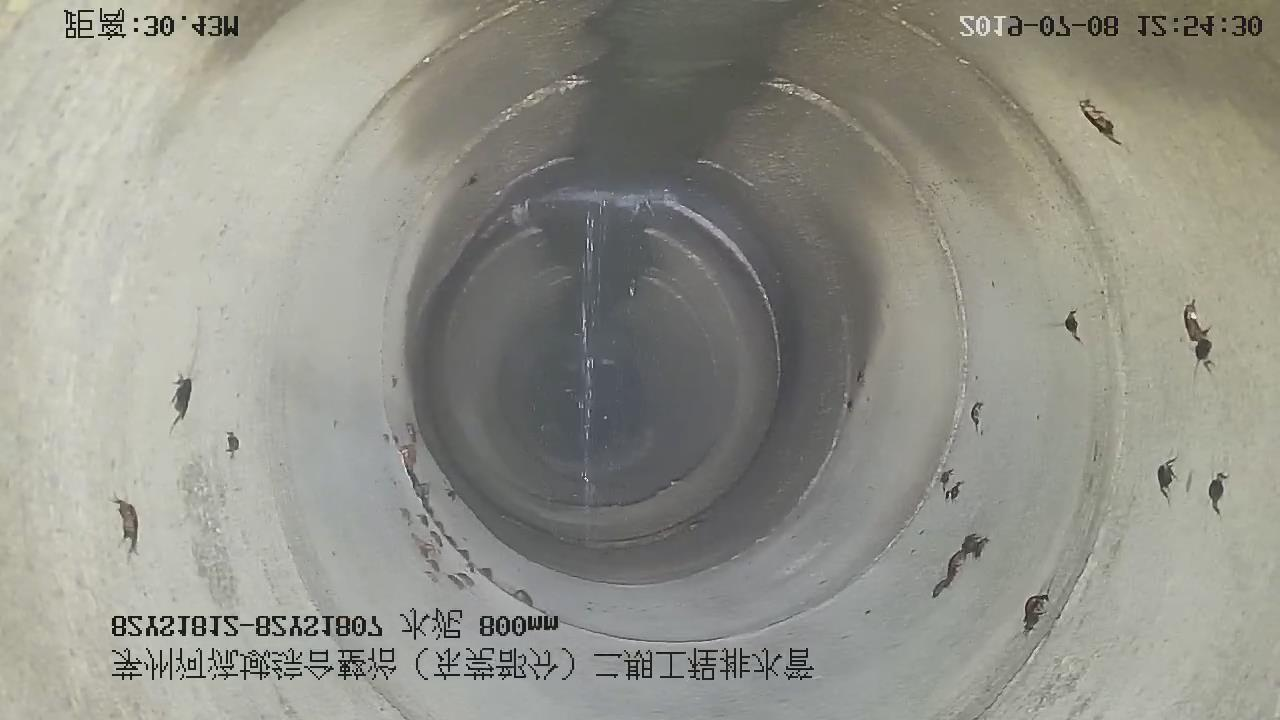SL: (567, 176, 688, 549)
